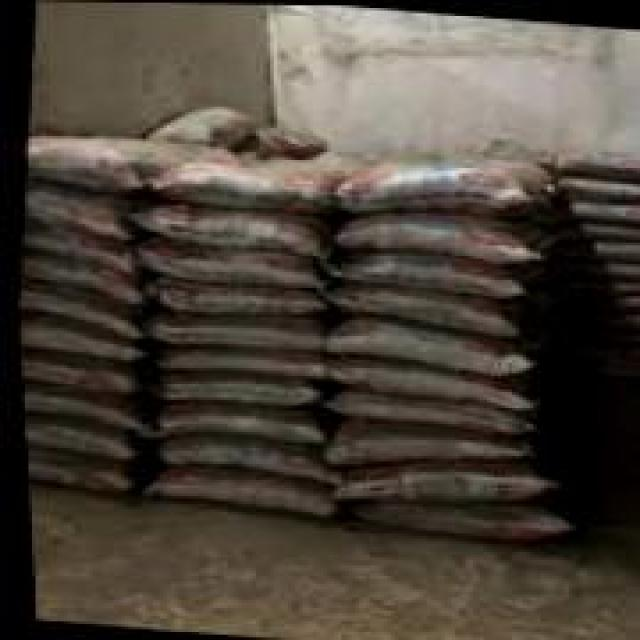gunny_bag: (320, 347, 522, 422), (142, 458, 327, 522), (348, 155, 543, 210), (145, 392, 311, 451), (336, 281, 504, 338), (143, 202, 308, 258), (339, 218, 518, 264), (136, 241, 304, 290), (335, 463, 539, 503), (16, 245, 130, 314), (159, 161, 324, 208), (14, 311, 128, 372), (144, 345, 311, 385), (21, 180, 123, 245), (18, 383, 121, 434), (558, 174, 640, 202), (560, 154, 640, 181), (575, 199, 640, 226), (591, 238, 640, 258), (598, 259, 640, 281), (606, 294, 640, 311)
